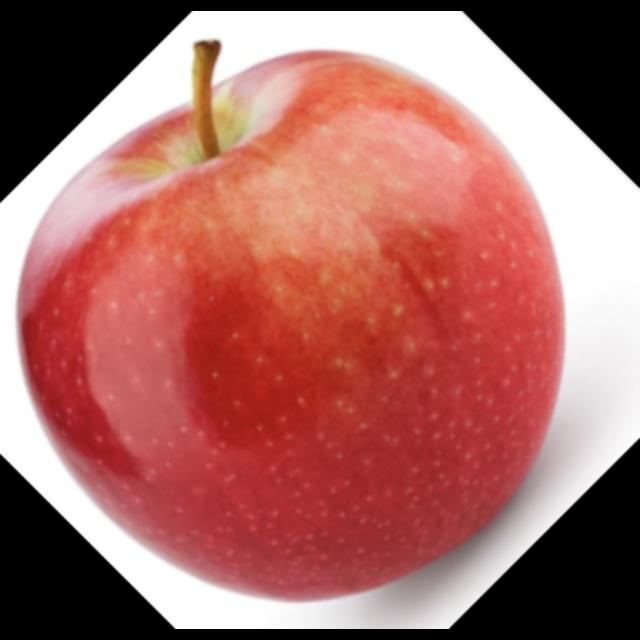Apel Segar: (9, 42, 574, 616)
